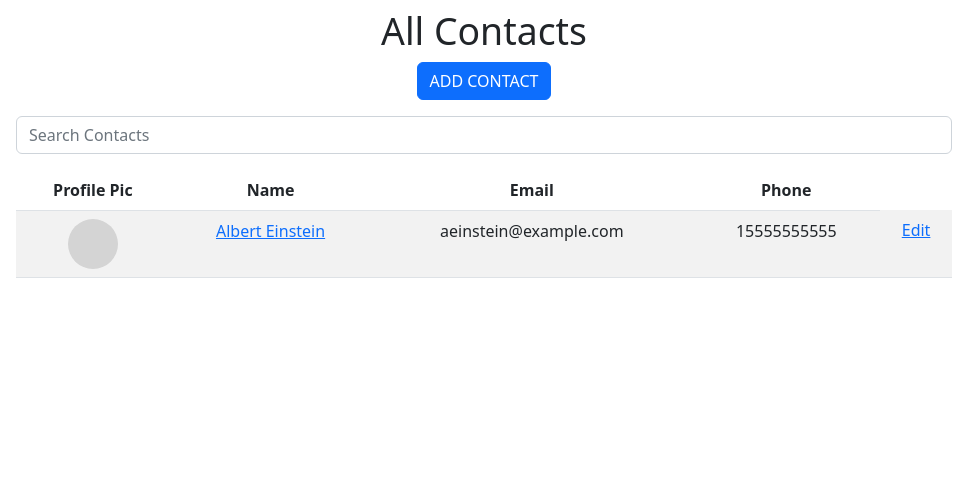
Scenario: App › home page › should add a contact and filter contacts by name
The width and height of the screenshot is (969, 481).
Click the button "ADD CONTACT".
click(484, 81)  # box top-left (416, 62), bottom-right (551, 100)
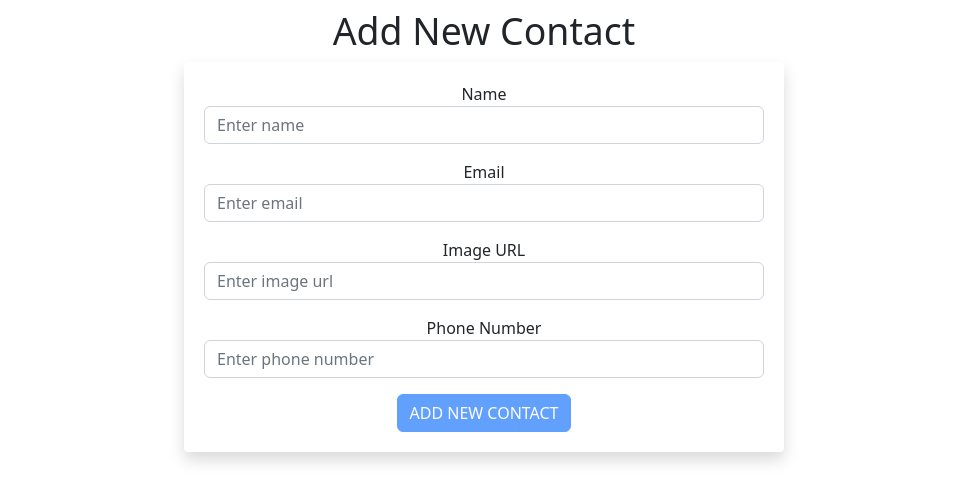
Check: the button "ADD NEW CONTACT" is shown, box top-left (396, 394), bottom-right (572, 432)
Note: fill out the form
Type "John Doe" into the field labelled "Name".
click(484, 125); type("John Doe")  # box top-left (204, 106), bottom-right (764, 144)
Type "john@example.com" into the field labelled "Email".
click(484, 203); type("john@example.com")  # box top-left (204, 184), bottom-right (764, 222)
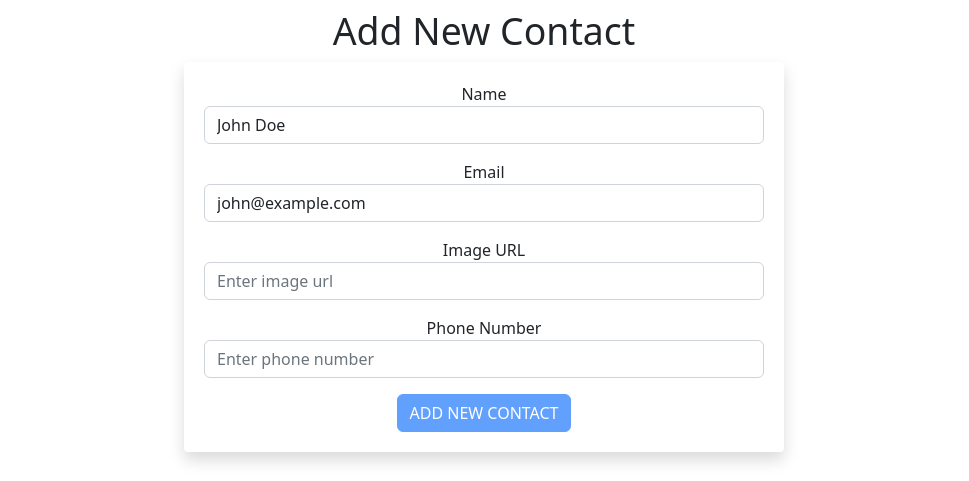
Type "https://example.com/image.jpg" into the field labelled "Image URL".
click(484, 281); type("https://example.com/image.jpg")  # box top-left (204, 262), bottom-right (764, 300)
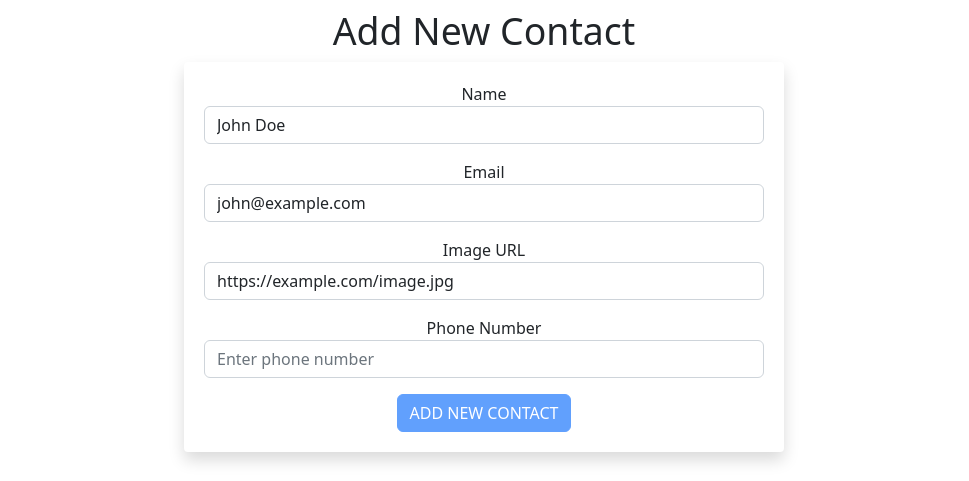
Type "1234567890" into the field labelled "Phone Number".
click(484, 359); type("1234567890")  # box top-left (204, 340), bottom-right (764, 378)
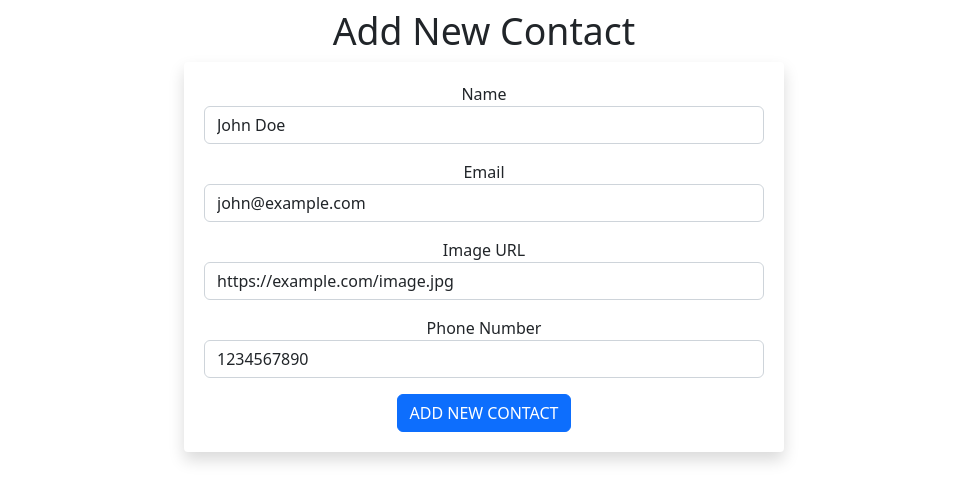
Note: Submit the form
Click the button "ADD NEW CONTACT".
click(484, 413)  # box top-left (396, 394), bottom-right (572, 432)
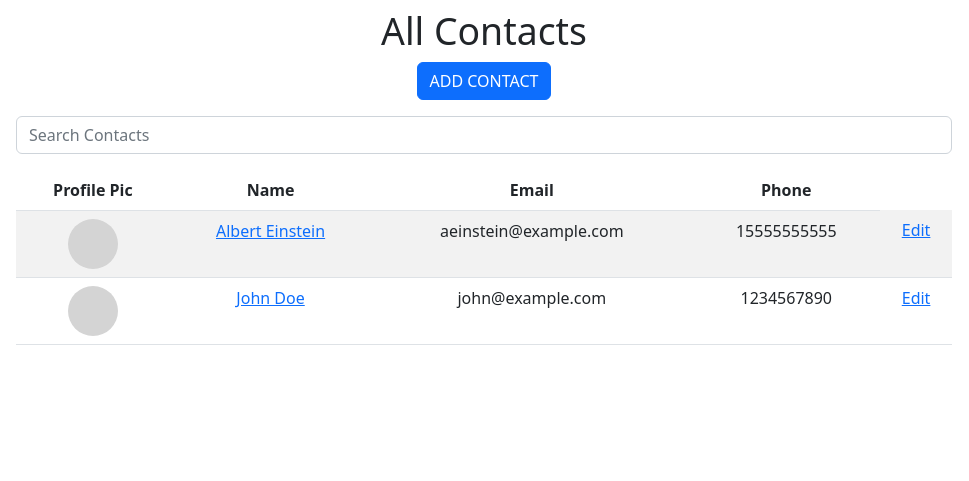
Note: filter by name
Type "John" into the field with placeholder "Search Contacts".
click(484, 135); type("John")  # box top-left (16, 116), bottom-right (952, 154)
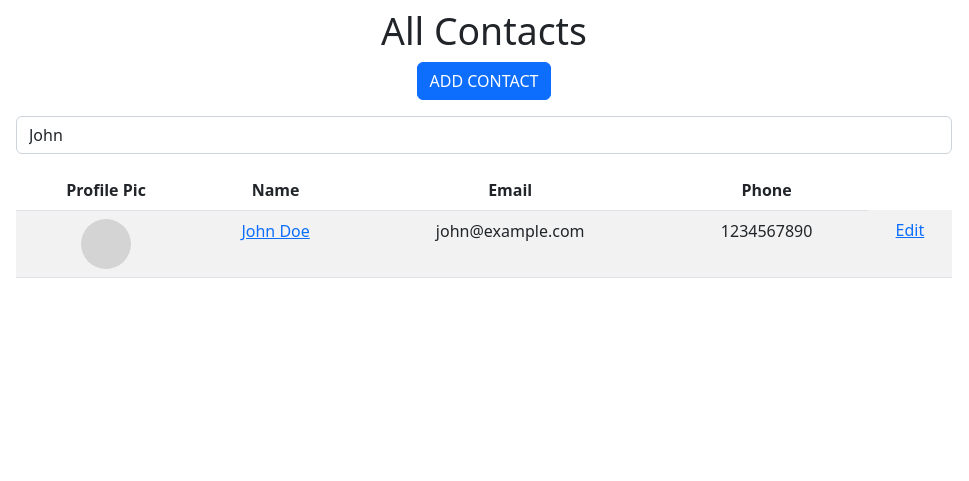
Check: the link "John Doe" is shown, box top-left (241, 220), bottom-right (310, 242)
Check: the text "john@example.com" is shown, box top-left (355, 210), bottom-right (665, 277)
